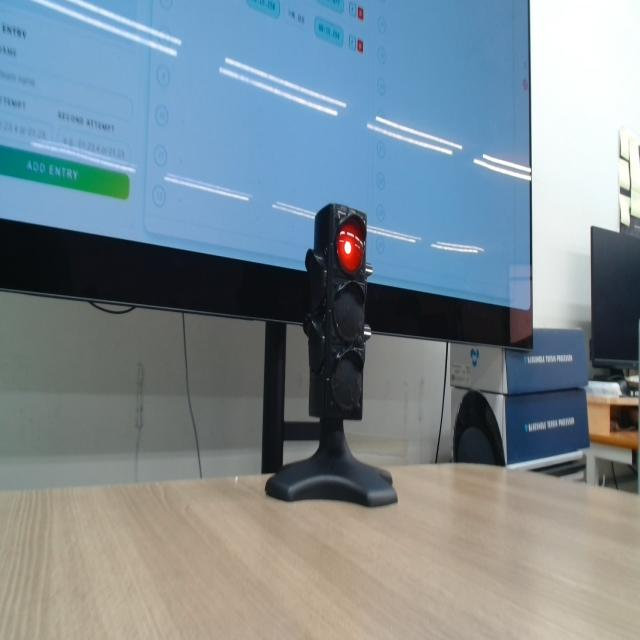red_light: (337, 220, 365, 273)
